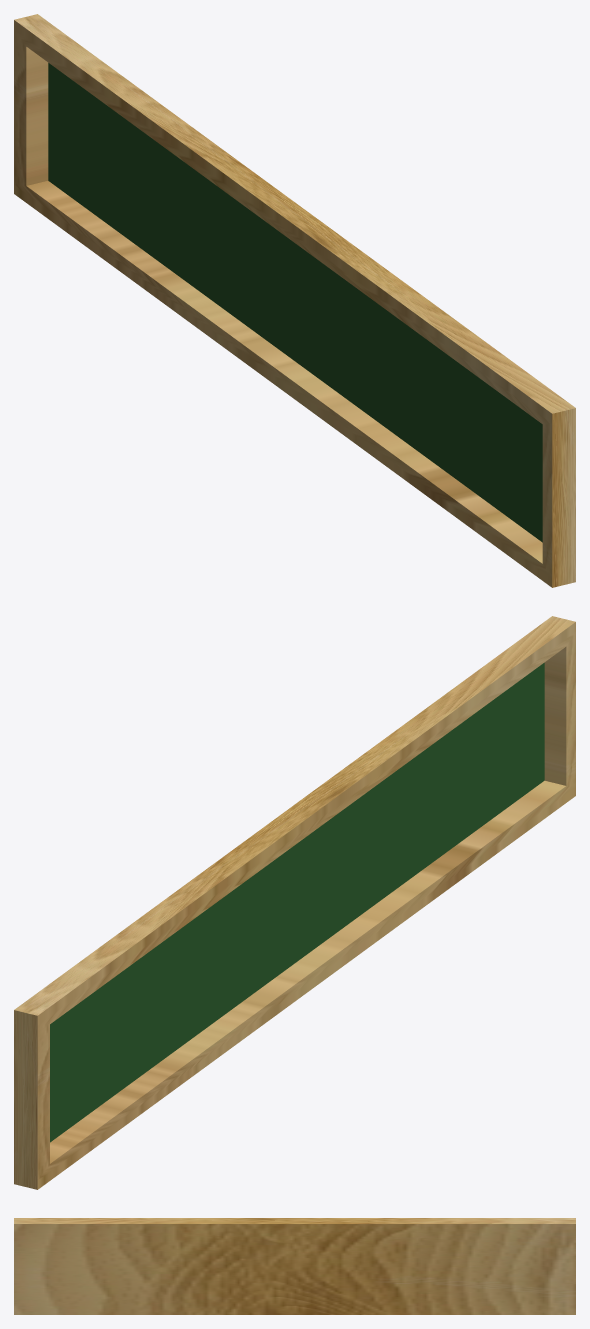
Rendered from WelcomeBoard.fbx.
3 renders of one model, top to bottom at view 1: azimuth 30°, elevation 25°; view 2: azimuth 150°, elevation 25°; view 3: azimuth 270°, elevation 25°, orthographic. The views are drawn at different scales.
Parts seen in each view (by area): view 1: Cube; view 2: Cube; view 3: Cube.
Part boxes in pixels (x1,y1,x2,y2): Cube: (14, 14, 575, 587); Cube: (14, 616, 575, 1189); Cube: (14, 1218, 575, 1314).
Size of the model in its own units: 16.05 by 113 by 631.
